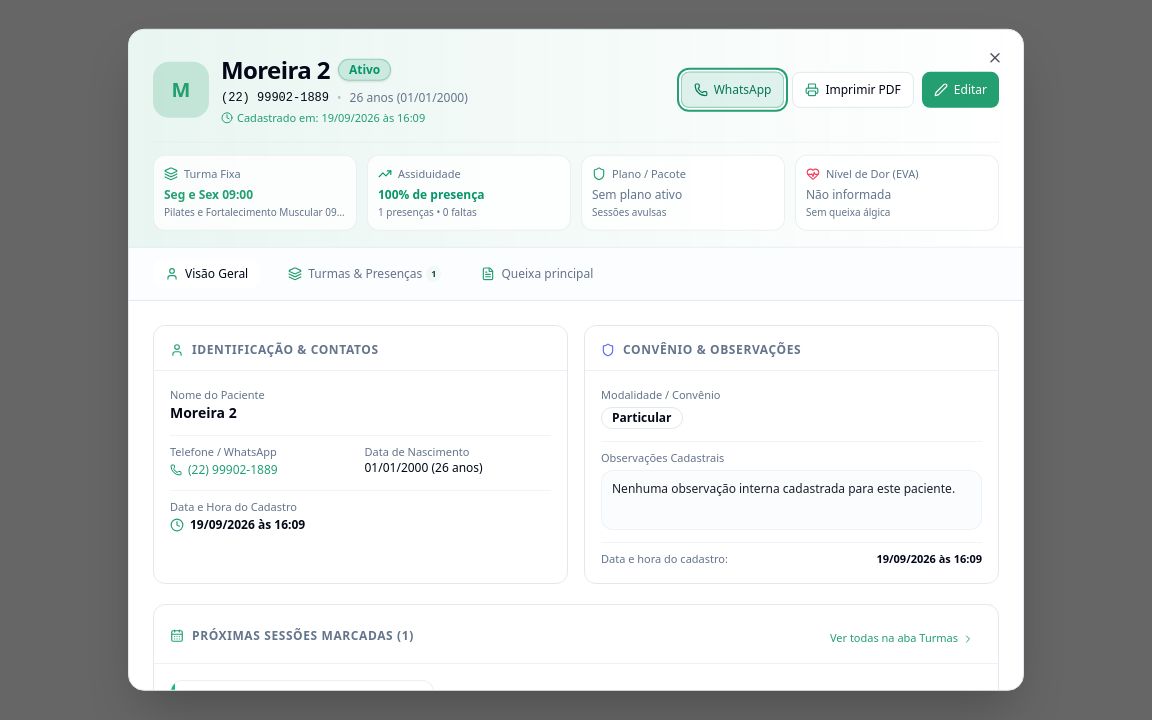
it: renders Desmarcar button in Visão Geral upcoming cards and in Turmas & Presenças table
Note: Navega para a aba "Turmas & Presenças" via atalho
Step 1. Click the button "Ver todas na aba Turmas" → (902, 638), box top-left (822, 626), bottom-right (982, 650)
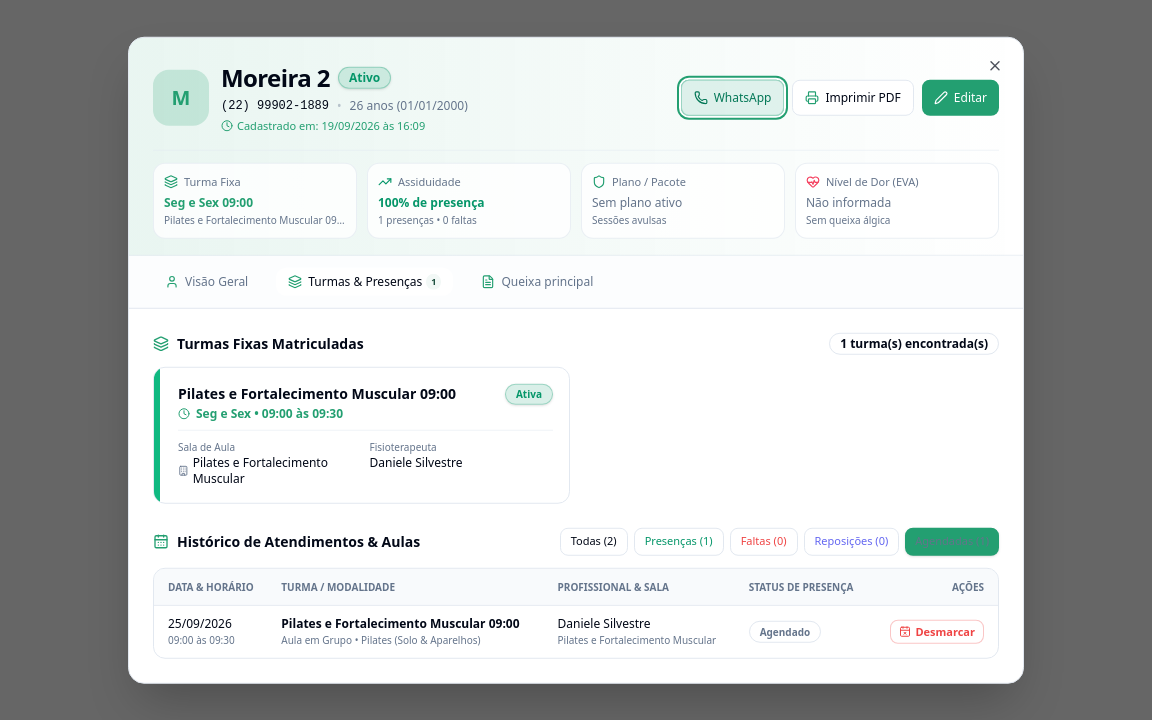
expect the column heading "Ações" is shown: met, box top-left (872, 568), bottom-right (998, 605)
expect the text "Histórico de Atendimentos & Aulas" is shown: met, box top-left (177, 531), bottom-right (420, 551)
